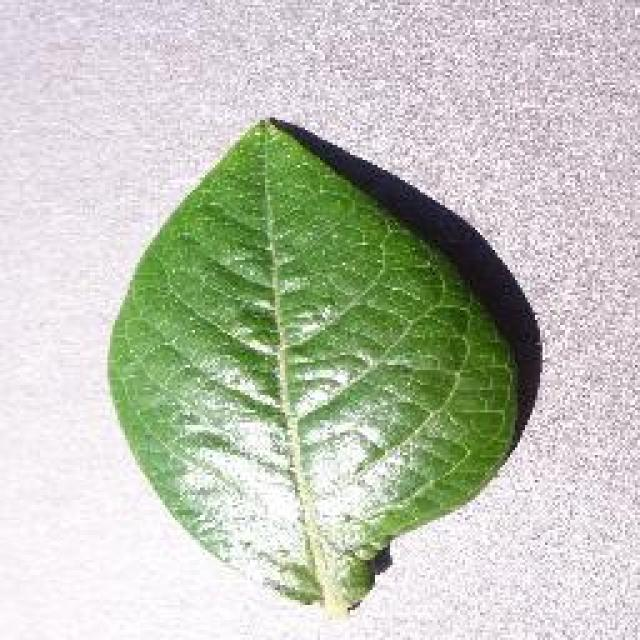Blu_healthy: (126, 203, 482, 508)
